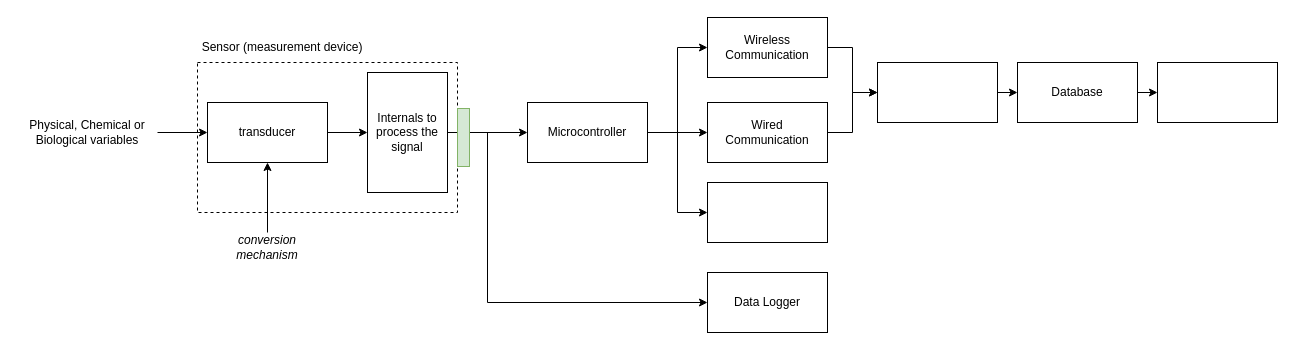
This 1295x350 diagram has some shape labels left out. The centre of each missing label's shape, as x and y in pixels:
"Actuator(s)" goes at (767,212).
"Data processing" goes at (937,92).
"Visualization" goes at (1217,92).
